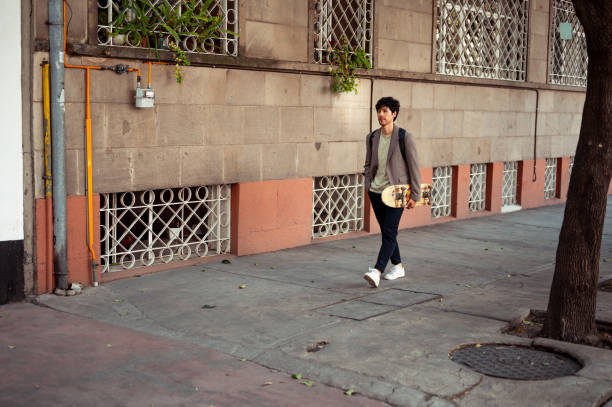person: (356, 93, 426, 292)
